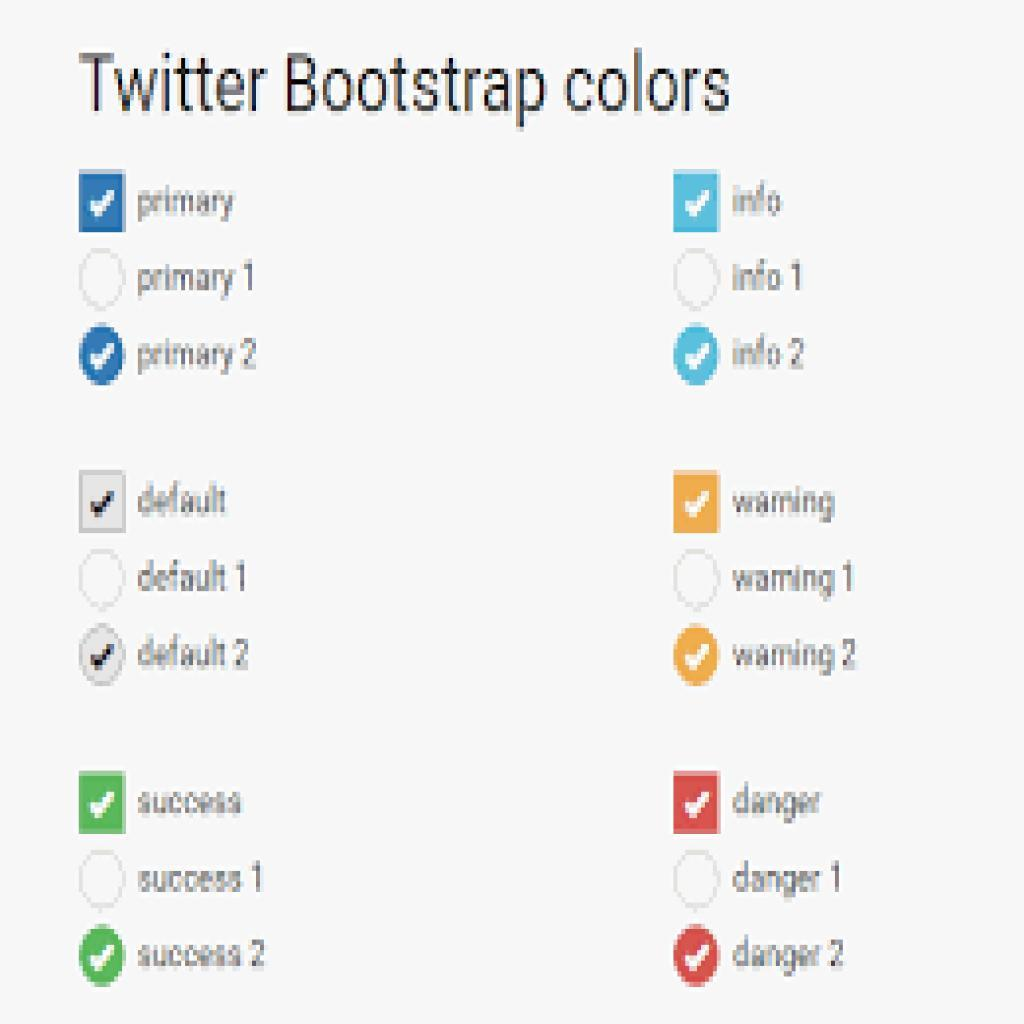checkbox: (77, 621, 129, 689), (673, 625, 720, 691), (78, 926, 127, 989), (81, 326, 129, 390), (674, 322, 720, 386), (674, 772, 721, 834), (80, 773, 125, 837), (674, 924, 720, 986), (79, 172, 125, 232), (675, 473, 720, 533), (81, 470, 125, 531), (675, 175, 721, 233)
radio: (672, 546, 725, 615), (672, 847, 723, 913), (76, 547, 127, 610), (80, 850, 130, 914), (80, 246, 128, 309), (675, 250, 724, 311)
